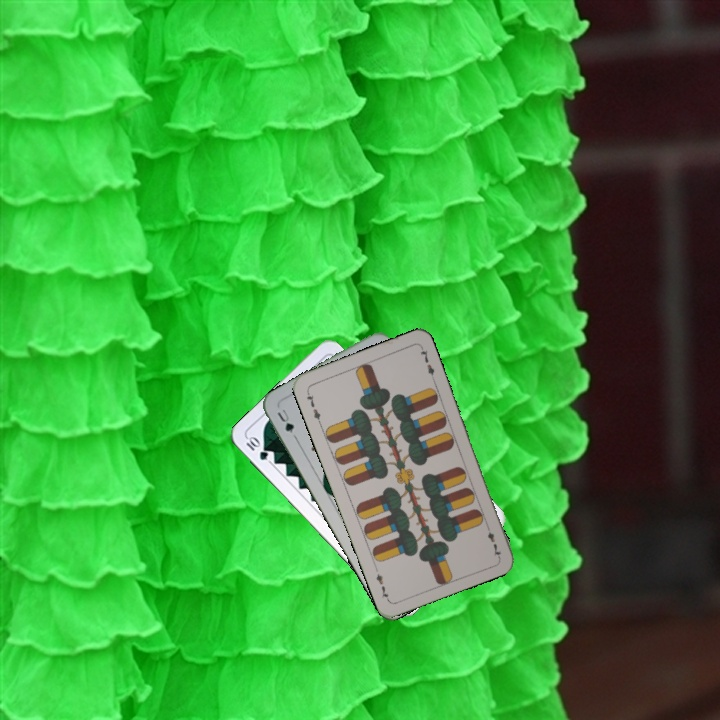E7: (302, 387, 323, 426), (482, 520, 503, 559)
G10: (242, 433, 271, 463)
GU: (273, 405, 297, 436)
